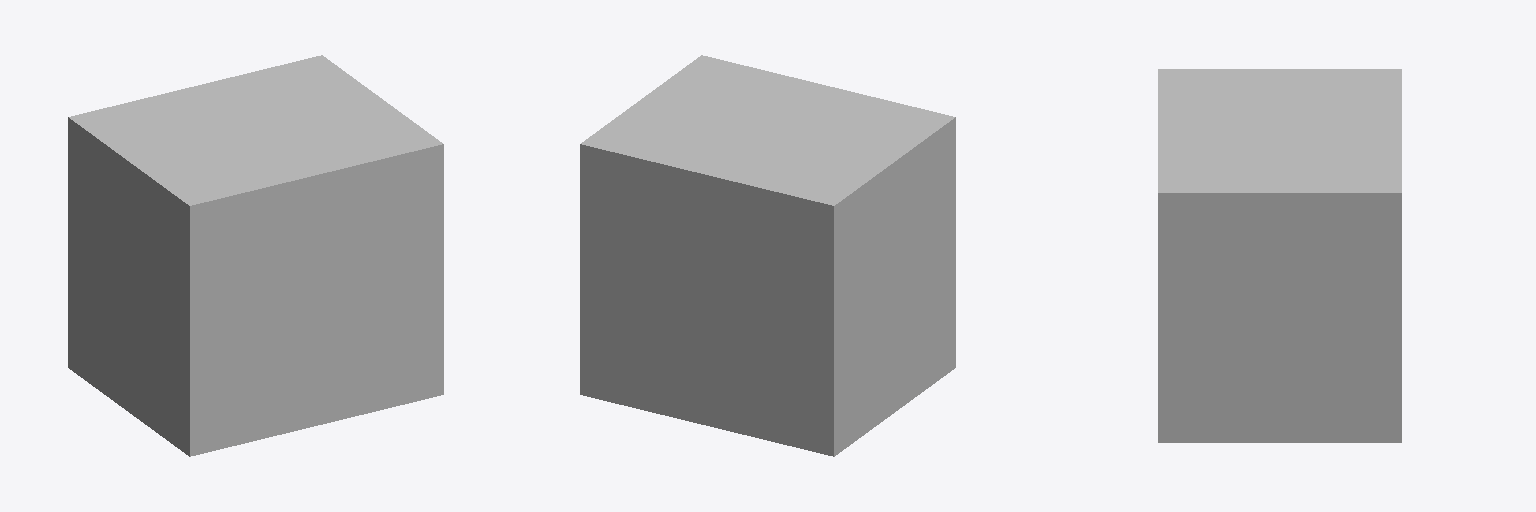
The model's file is Dop-7.obj.
3 renders of one model, left to right at view 1: azimuth 30°, elevation 25°; view 2: azimuth 150°, elevation 25°; view 3: azimuth 270°, elevation 25°, orthographic.
Visible parts, largest first — view 1: Dop-7; view 2: Dop-7; view 3: Dop-7.
Part boxes in pixels (x1,y1,x2,y2): Dop-7: (68, 55, 443, 456); Dop-7: (580, 55, 955, 456); Dop-7: (1158, 69, 1401, 442).
Size of the model in its own units: 35 by 33 by 29.